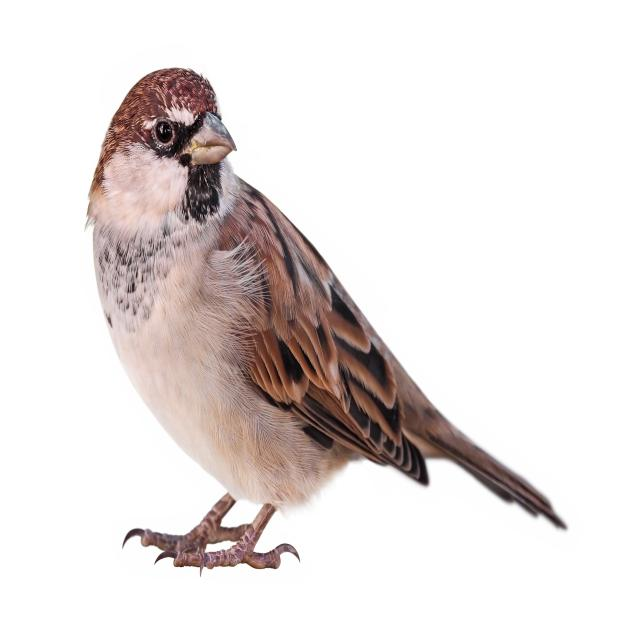Sparrow: (82, 58, 575, 576)
